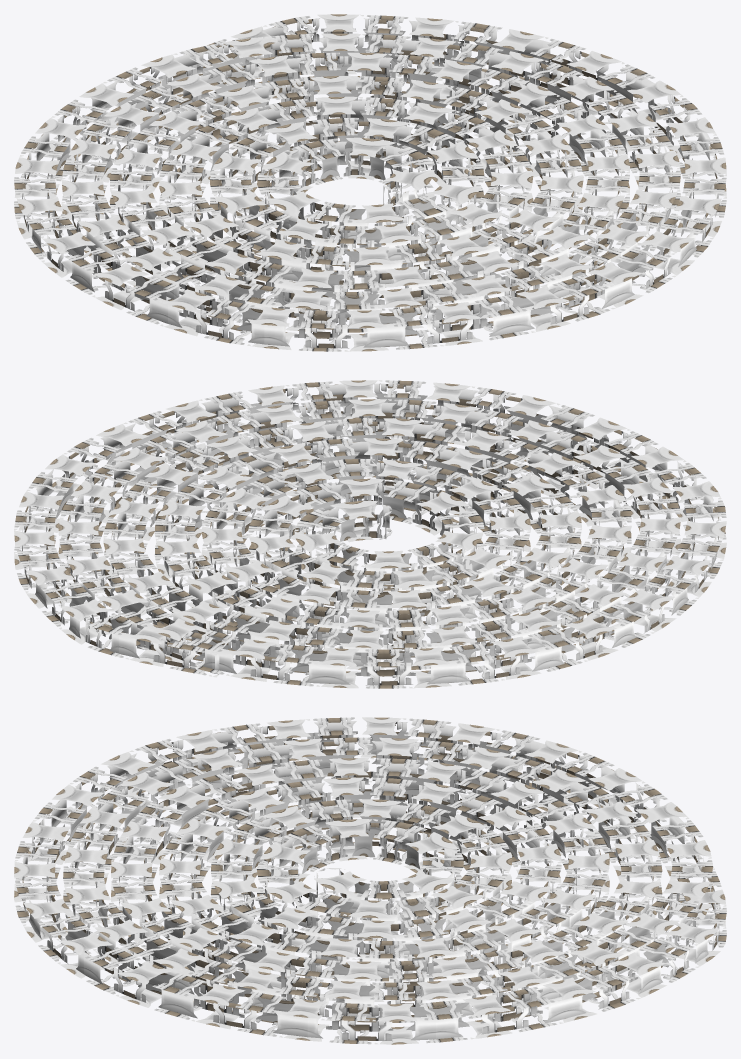
Rendered from BMX_Chain_DisplayMesh.fbx.
3 renders of one model, top to bottom at view 1: azimuth 30°, elevation 25°; view 2: azimuth 150°, elevation 25°; view 3: azimuth 270°, elevation 25°, orthographic. The views are drawn at different scales.
Visible parts, largest first — view 1: Display; view 2: Display; view 3: Display.
Part boxes in pixels (x1=…): Display: x1=14, y1=14, x2=726, y2=351; Display: x1=14, y1=380, x2=726, y2=688; Display: x1=14, y1=717, x2=726, y2=1044.
Bounding box in the file's own units: 19.38 × 0.8275 × 19.19.
1 material, 1 textured.
